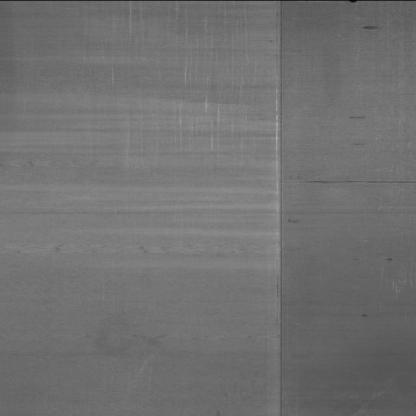welding_line: (263, 1, 294, 416)
